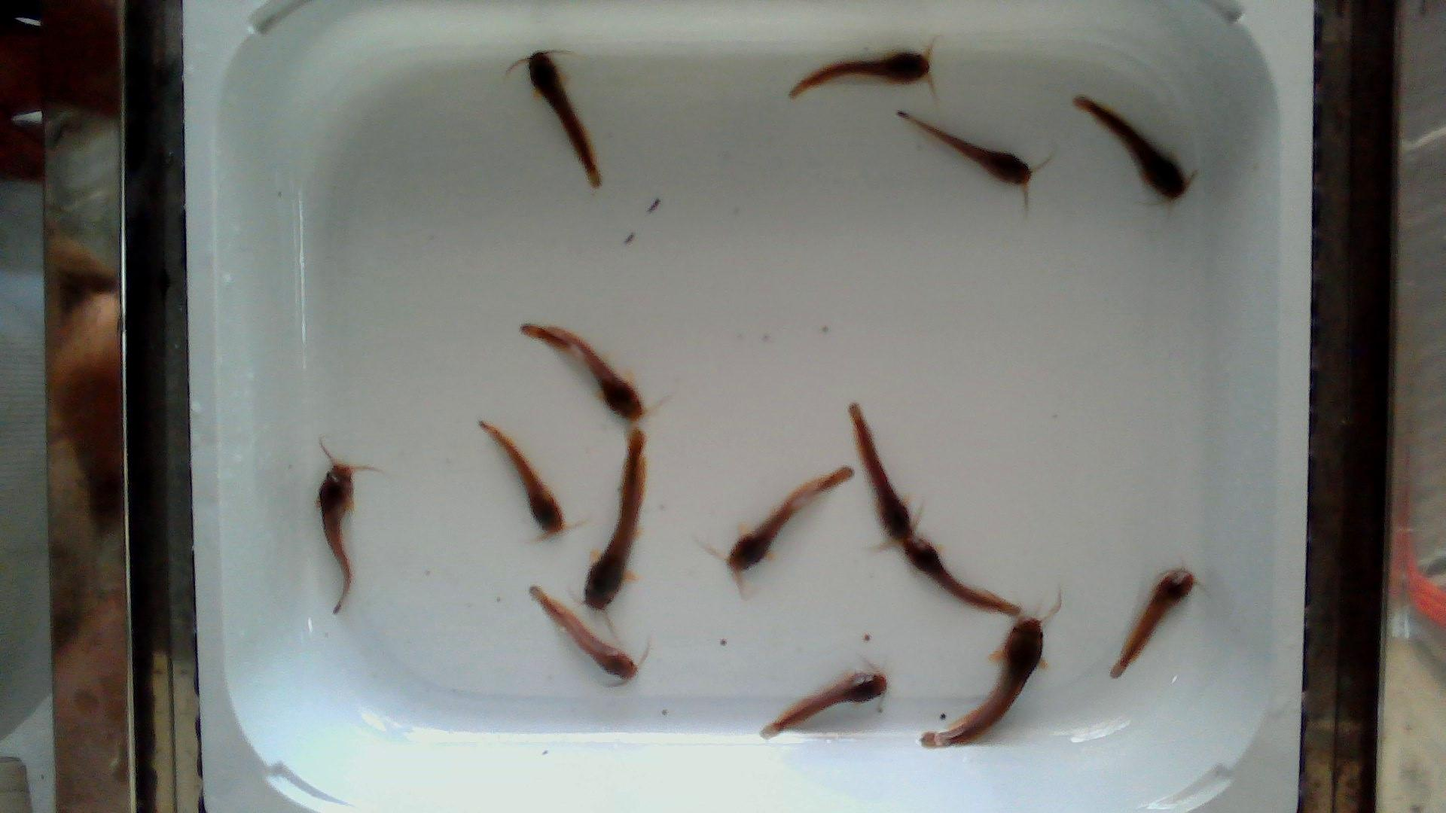lele: (927, 617, 1048, 744), (520, 324, 649, 430), (728, 466, 853, 574), (898, 111, 1032, 209), (1073, 96, 1189, 202), (900, 538, 1033, 627), (480, 422, 579, 539), (529, 586, 639, 683), (528, 52, 602, 189), (1109, 567, 1197, 678), (594, 428, 646, 608), (850, 403, 910, 538), (789, 47, 935, 99), (780, 662, 889, 723), (319, 461, 365, 581)
